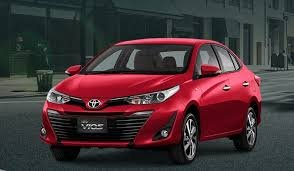mobil: (38, 37, 270, 168)
